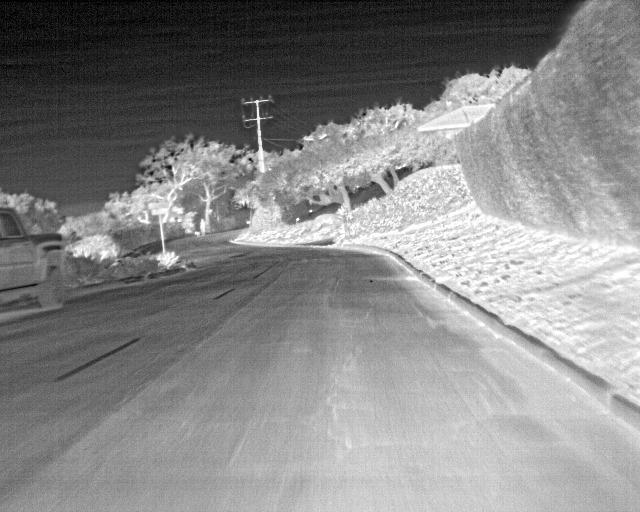car: (0, 206, 68, 311)
